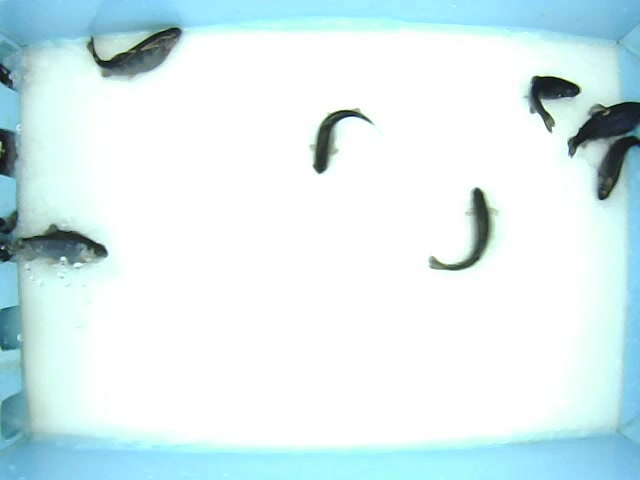fish: (427, 187, 501, 272), (86, 23, 182, 80), (3, 221, 109, 268), (307, 106, 375, 175), (522, 74, 583, 136)
